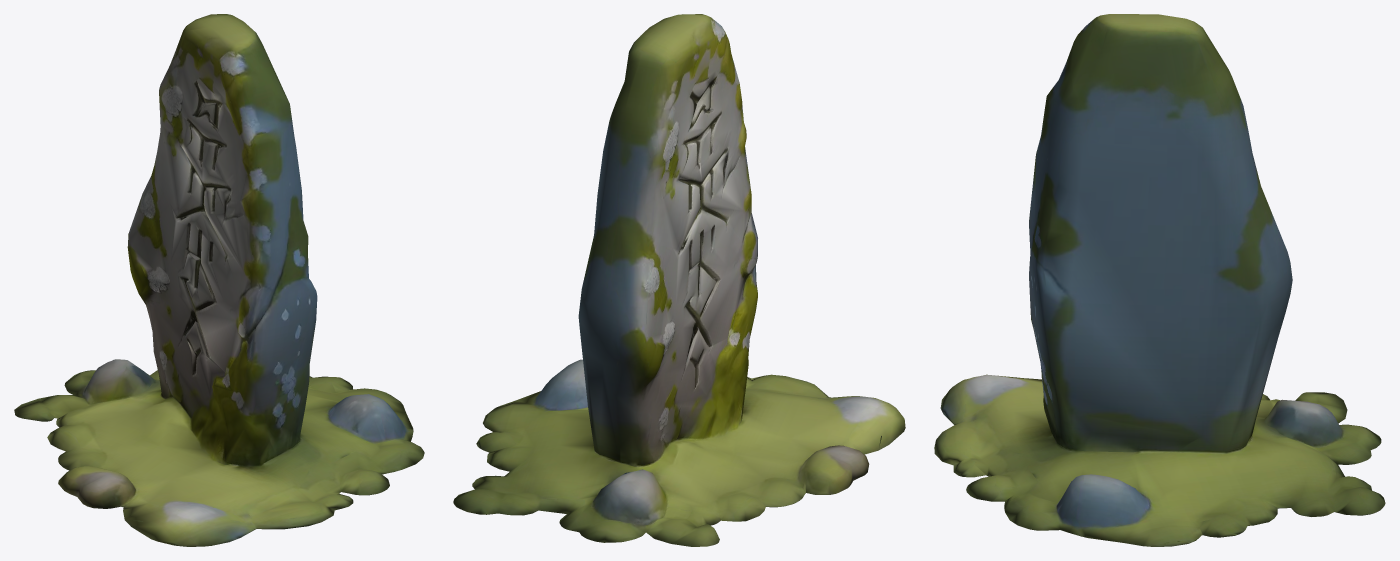
The model's file is StandingStone2.opt.glb.
3 renders of one model, left to right at view 1: azimuth 30°, elevation 25°; view 2: azimuth 150°, elevation 25°; view 3: azimuth 270°, elevation 25°, orthographic. The views are drawn at different scales.
Parts seen in each view (by area): view 1: node_0; view 2: node_0; view 3: node_0.
Part boxes in pixels (<box>): node_0: <box>14,14,424,546</box>; node_0: <box>453,14,905,546</box>; node_0: <box>934,14,1385,546</box>.
Size of the model in its own units: 0.6945 by 0.811 by 0.7556.
1 material, 1 textured.
